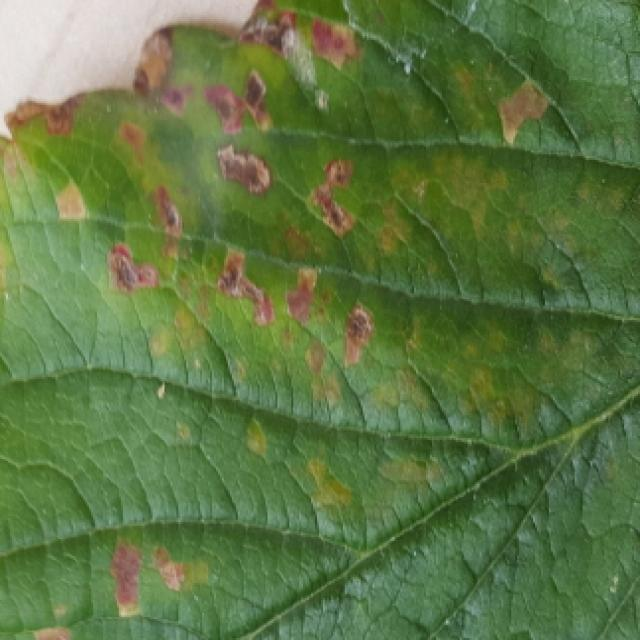Angular Leafspot: (0, 0, 640, 640)
